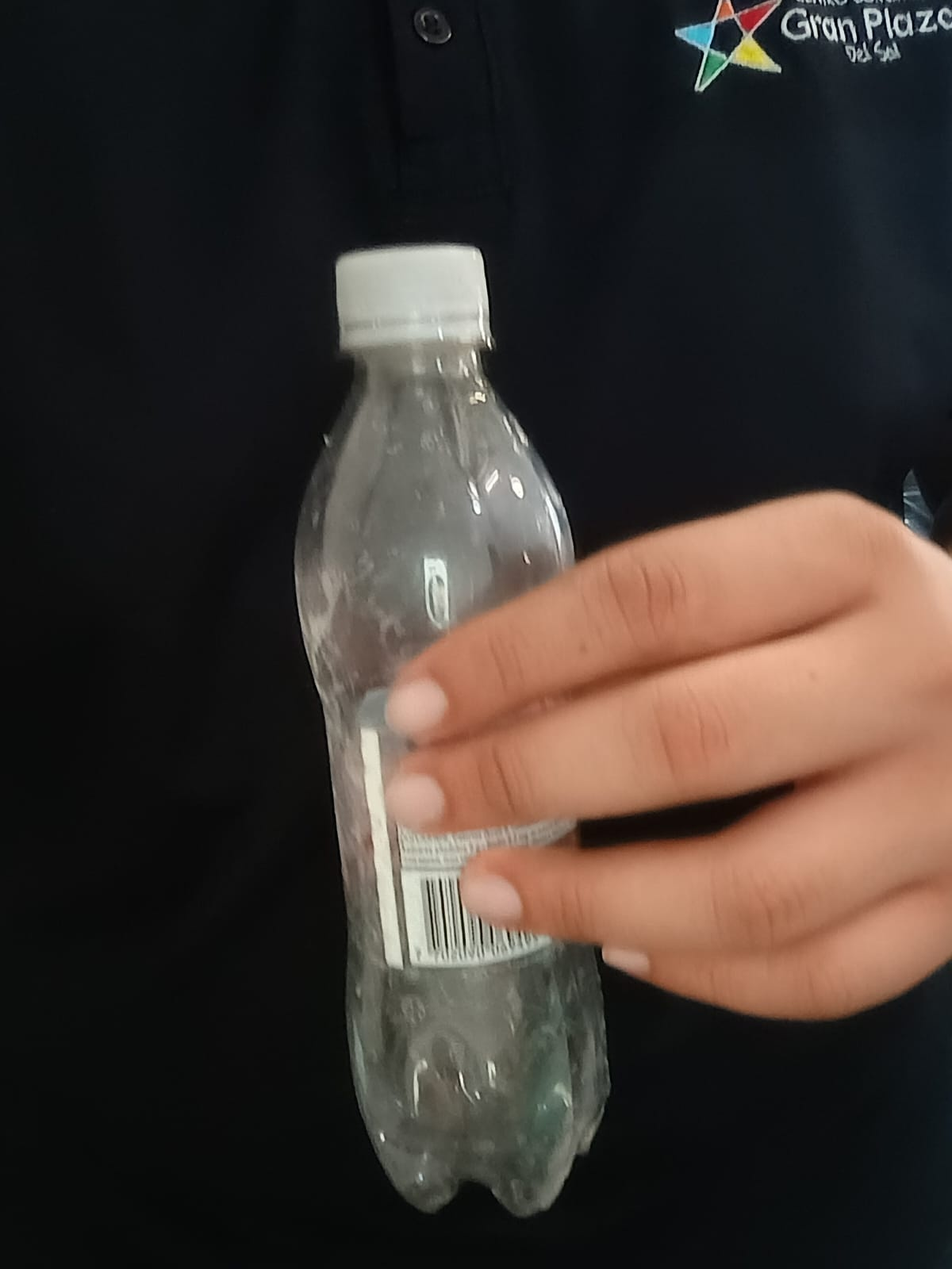Plastico: (296, 242, 616, 1216)
